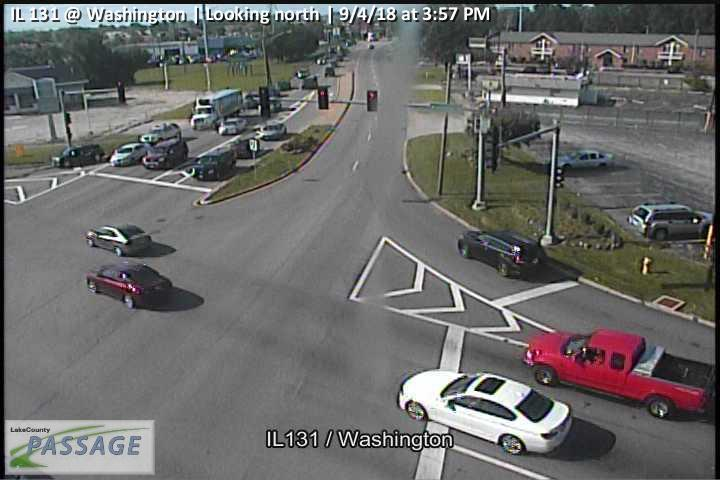SUV: (457, 228, 546, 278), (627, 204, 713, 240), (192, 147, 237, 181), (141, 139, 188, 170), (50, 143, 104, 166), (137, 122, 182, 146), (229, 135, 260, 159)
Sedan: (396, 370, 571, 454), (87, 262, 171, 307), (85, 224, 151, 257), (557, 149, 614, 170), (108, 142, 146, 166), (256, 121, 287, 141), (218, 117, 249, 135)
Truck: (522, 328, 714, 420), (189, 89, 242, 131)
